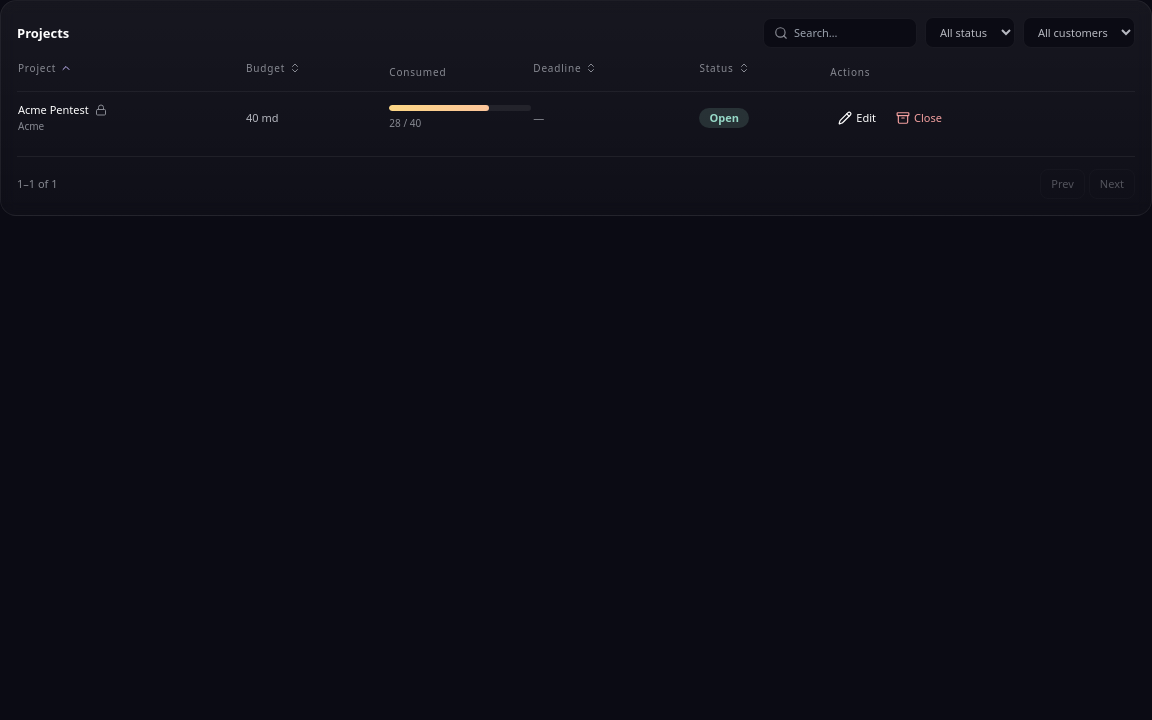
Test: ProjectsTable › Edit: customer shown read-only (not an editable input)
The width and height of the screenshot is (1152, 720).
Click the button "Edit": point(857, 118) 830,104 -> 884,132
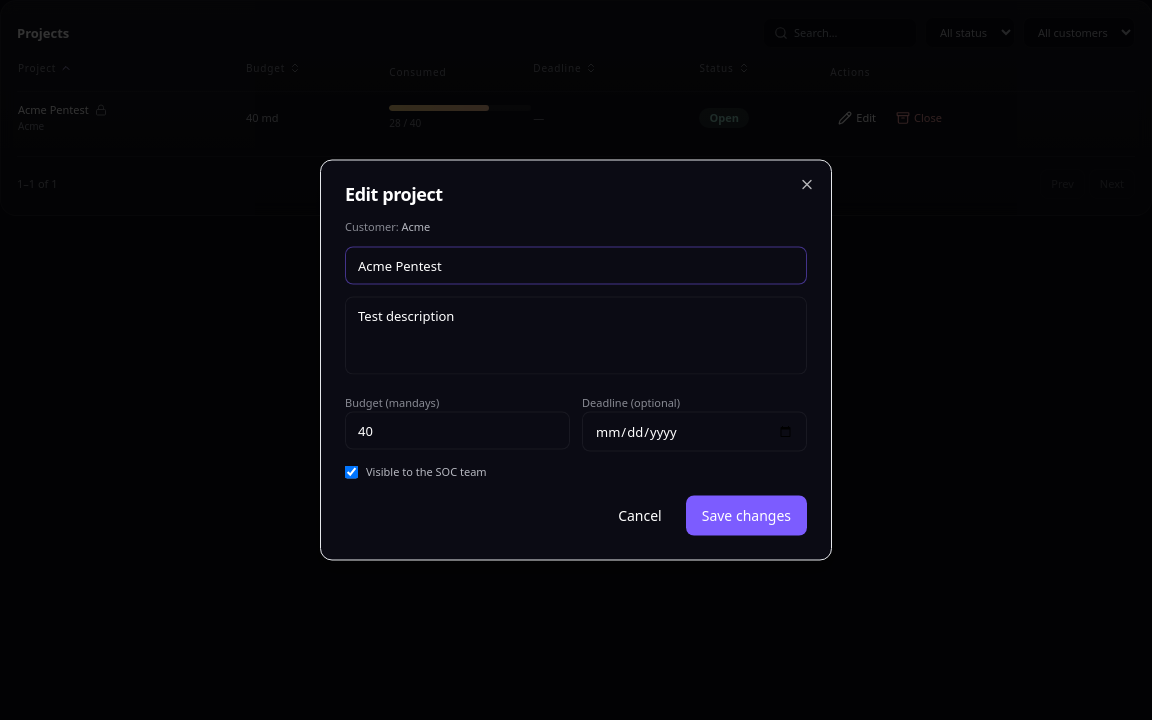
Result: the dialog is shown at 320,160 -> 832,560
Result: the text "Acme" is shown at 402,218 -> 430,234
